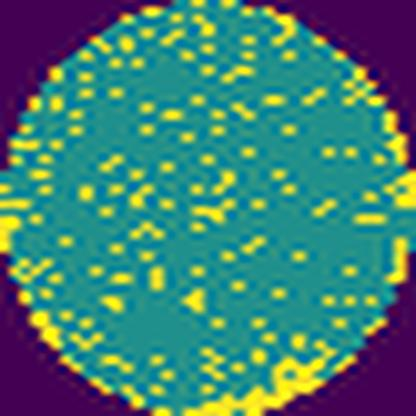Edge-Loc: (185, 353, 338, 416), (0, 211, 25, 250), (387, 173, 416, 204)
